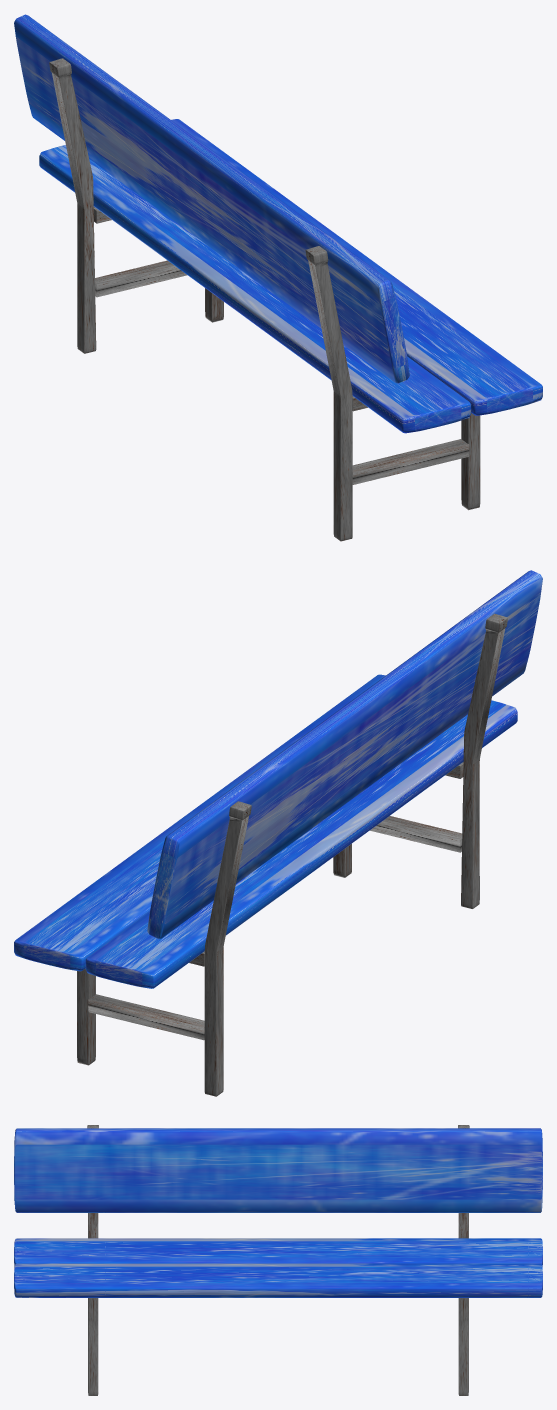
Rendered from bench.fbx.
The picture shows the model from 3 angles, top to bottom: view 1: azimuth 30°, elevation 25°; view 2: azimuth 150°, elevation 25°; view 3: azimuth 270°, elevation 25°; orthographic projection. The views are drawn at different scales.
Visible parts, largest first — view 1: bench; view 2: bench; view 3: bench.
Boxes of the visible parts, x1,y1,x2,y2 form: bench: (14, 14, 542, 541); bench: (14, 570, 542, 1096); bench: (14, 1125, 542, 1395).
Bounding box in the file's own units: 47.68 × 75.33 × 167.
Materials: 2 (2 with a texture image).
